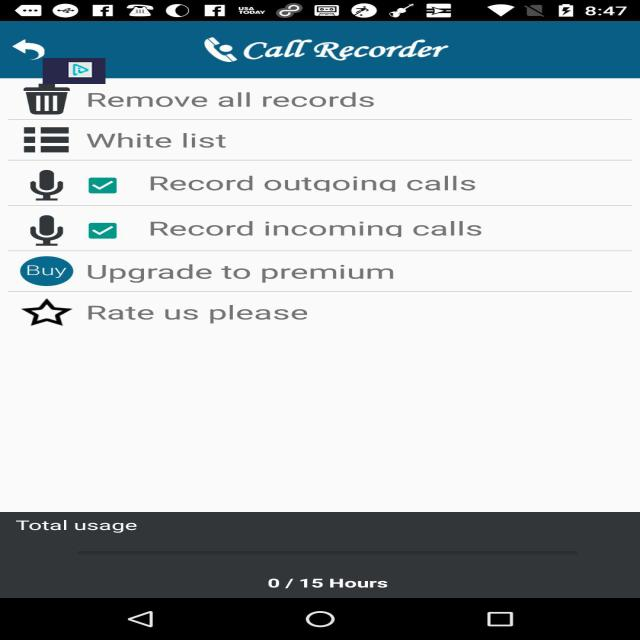sneaking: (42, 58, 106, 84)
